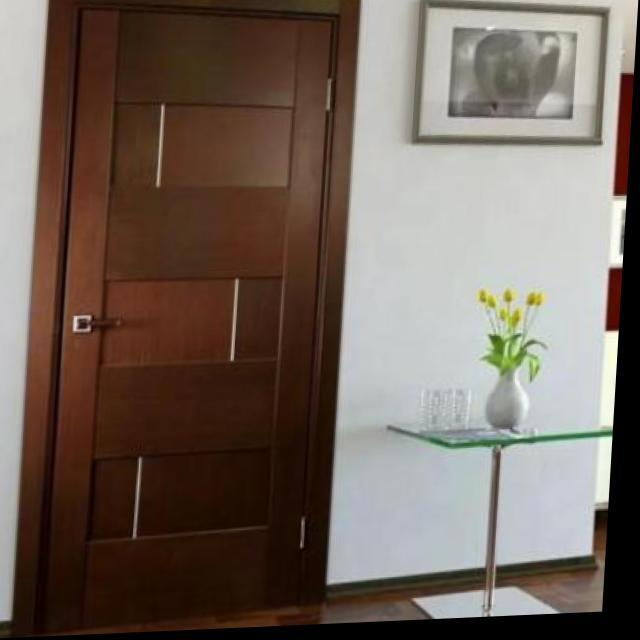door_handle: (70, 313, 133, 340)
